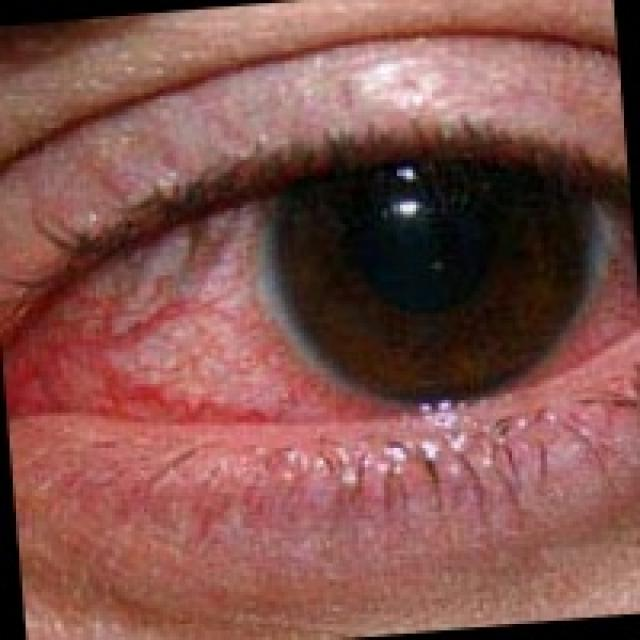Keratitis: (41, 94, 600, 448)
